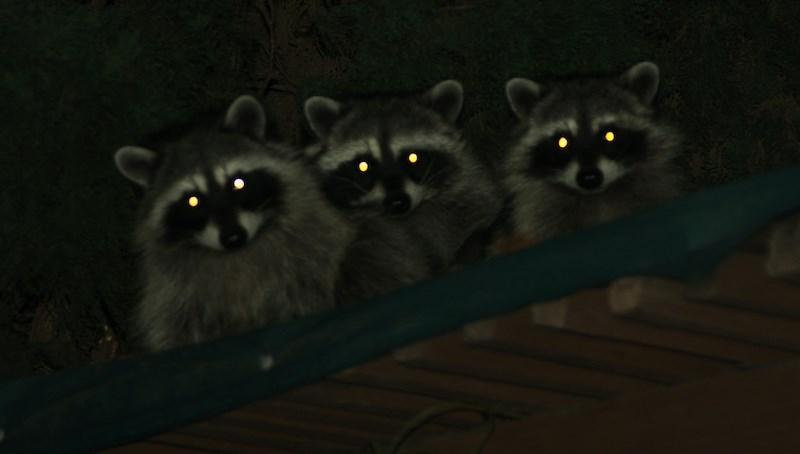raccoon: (115, 92, 322, 337), (308, 79, 504, 290), (502, 61, 691, 252)
